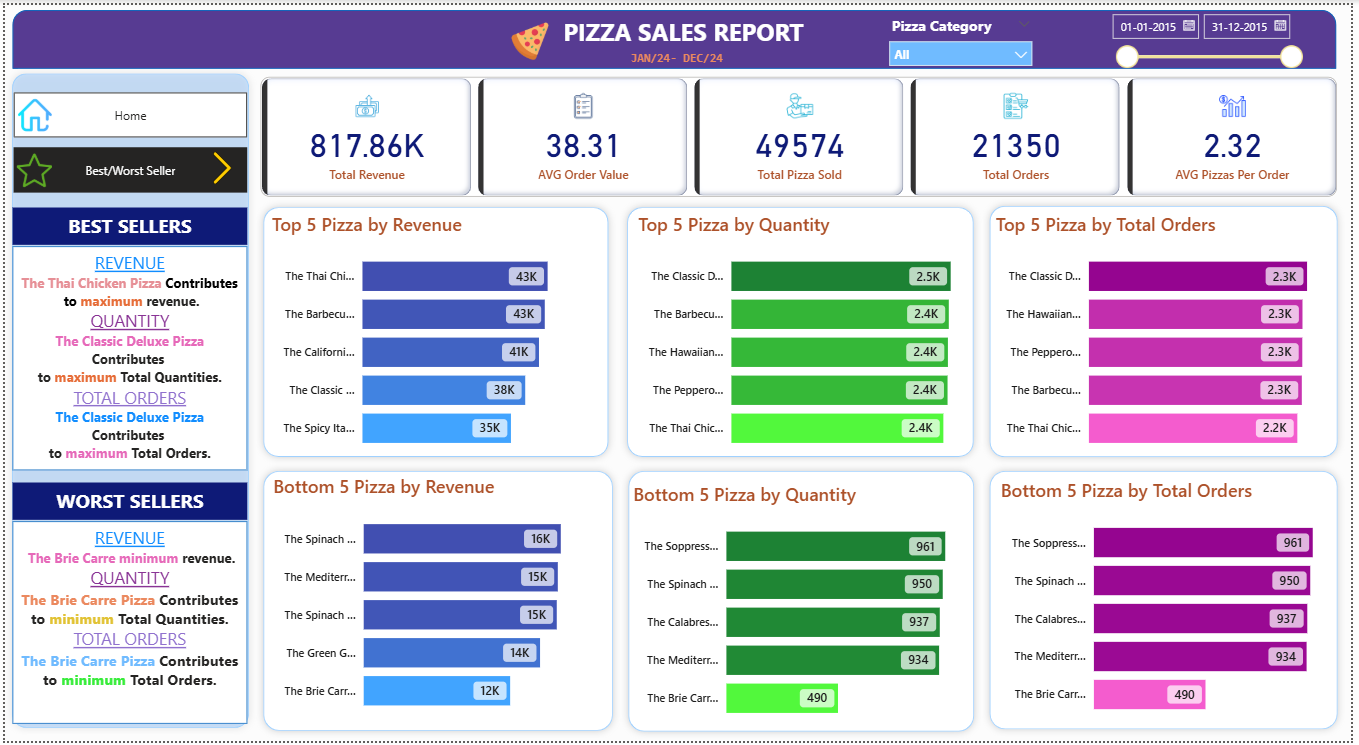

The dashboard page shown, as its layout file describes it:
{"tool":"powerbi","page":{"name":"Best/Worst Seller","canvas":[1500,820],"ordinal":1},"visuals":[{"type":"shape","box":[0,68.2,279.9,745.1],"z":0},{"type":"cardVisual","fields":{"Data":["pizza_sales.Total Revenue","pizza_sales.AVG Order Value","pizza_sales.Total Pizza Sold","pizza_sales.Total Orders","pizza_sales.AVG Pizza Per Order"]},"box":[279.9,75.2,1213,143.4],"z":1000},{"type":"shape","box":[8.4,5.6,1474.8,65.5],"z":2000},{"type":"textbox","box":[617,7,305,47.4],"z":3000},{"type":"textbox","box":[692.2,44.6,115.6,30.6],"z":4000},{"type":"image","box":[552.9,13.9,64.1,52.9],"z":5000},{"type":"shape","box":[279.8,217.1,400.4,294.3],"z":6000},{"type":"shape","box":[1088.7,215.5,403.6,295.9],"z":7000},{"type":"shape","box":[279.8,511.4,405.2,305.5],"z":8000},{"type":"shape","box":[686.6,511.1,401.1,306.4],"z":9000},{"type":"shape","box":[1088.7,511.4,403.6,303.9],"z":10000},{"type":"textbox","box":[8.4,225.6,261.8,41.8],"z":11000},{"type":"textbox","box":[8.4,268.8,261.8,249.3],"z":12000},{"type":"textbox","box":[8.4,532,261.8,41.8],"z":13000},{"type":"textbox","box":[8.4,575.2,261.8,225.6],"z":14000},{"type":"slicer","fields":{"Values":["pizza_sales.pizza_category"]},"box":[974.9,7,179.7,61.3],"z":15000},{"type":"slicer","fields":{"Values":["pizza_sales.order_date"]},"box":[1221.4,0,232.6,75.2],"z":16000},{"type":"shape","box":[685,217.1,402,294.3],"z":17000},{"type":"barChart","title":"Top 5 Pizza by Revenue","fields":{"Category":["pizza_sales.pizza_name"],"Y":["pizza_sales.Total Revenue"]},"box":[292.7,230,371.5,281.4],"z":18000},{"type":"barChart","title":"Bottom 5 Pizza by Revenue","fields":{"Category":["pizza_sales.pizza_name"],"Y":["pizza_sales.Total Revenue"]},"box":[294.3,522.6,373.1,281.4],"z":19000},{"type":"barChart","title":"Top 5 Pizza by Quantity","fields":{"Category":["pizza_sales.pizza_name"],"Y":["pizza_sales.Total Pizza Sold"]},"box":[701.1,230,384.3,281.4],"z":20000},{"type":"barChart","title":"Bottom 5 Pizza by Quantity","fields":{"Category":["pizza_sales.pizza_name"],"Y":["pizza_sales.Total Pizza Sold"]},"box":[694.7,530.7,384.3,281.4],"z":21000},{"type":"barChart","title":"Top 5 Pizza by Total Orders","fields":{"Category":["pizza_sales.pizza_name"],"Y":["pizza_sales.Total Orders"]},"box":[1098.3,230,384.3,281.4],"z":22000},{"type":"barChart","title":"Bottom 5 Pizza by Total Orders","fields":{"Category":["pizza_sales.pizza_name"],"Y":["pizza_sales.Total Pizza Sold"]},"box":[1104.7,525.8,384.3,281.4],"z":23000},{"type":"pageNavigator","box":[9.7,158.8,260.4,50.1],"z":24000},{"type":"pageNavigator","box":[9.7,97.5,260.4,50.1],"z":25000},{"type":"image","box":[9.7,97.5,47.4,50.1],"z":25001},{"type":"image","box":[214.5,158.8,55.7,46],"z":25002},{"type":"image","box":[8.4,157.4,48.7,52.9],"z":25003}]}

Visuals, with their boxes in screenshot pixels (x1, y1, x2, y2), scaled from the page's 1500x820 canvas onto the 1359x745 screenshot:
shape: x1=0, y1=62, x2=254, y2=739
cardVisual - pizza_sales.Total Revenue x pizza_sales.AVG Order Value: x1=254, y1=68, x2=1353, y2=199
shape: x1=8, y1=5, x2=1344, y2=65
textbox: x1=559, y1=6, x2=835, y2=49
textbox: x1=627, y1=41, x2=732, y2=68
image: x1=501, y1=13, x2=559, y2=61
shape: x1=253, y1=197, x2=616, y2=465
shape: x1=986, y1=196, x2=1352, y2=465
shape: x1=253, y1=465, x2=621, y2=742
shape: x1=622, y1=464, x2=985, y2=743
shape: x1=986, y1=465, x2=1352, y2=741
textbox: x1=8, y1=205, x2=245, y2=243
textbox: x1=8, y1=244, x2=245, y2=471
textbox: x1=8, y1=483, x2=245, y2=521
textbox: x1=8, y1=523, x2=245, y2=728
slicer - pizza_sales.pizza_category: x1=883, y1=6, x2=1046, y2=62
slicer - pizza_sales.order_date: x1=1107, y1=0, x2=1317, y2=68
shape: x1=621, y1=197, x2=985, y2=465
"Top 5 Pizza by Revenue" barChart: x1=265, y1=209, x2=602, y2=465
"Bottom 5 Pizza by Revenue" barChart: x1=267, y1=475, x2=605, y2=730
"Top 5 Pizza by Quantity" barChart: x1=635, y1=209, x2=983, y2=465
"Bottom 5 Pizza by Quantity" barChart: x1=629, y1=482, x2=978, y2=738
"Top 5 Pizza by Total Orders" barChart: x1=995, y1=209, x2=1343, y2=465
"Bottom 5 Pizza by Total Orders" barChart: x1=1001, y1=478, x2=1349, y2=733
pageNavigator: x1=9, y1=144, x2=245, y2=190
pageNavigator: x1=9, y1=89, x2=245, y2=134
image: x1=9, y1=89, x2=52, y2=134
image: x1=194, y1=144, x2=245, y2=186
image: x1=8, y1=143, x2=52, y2=191
